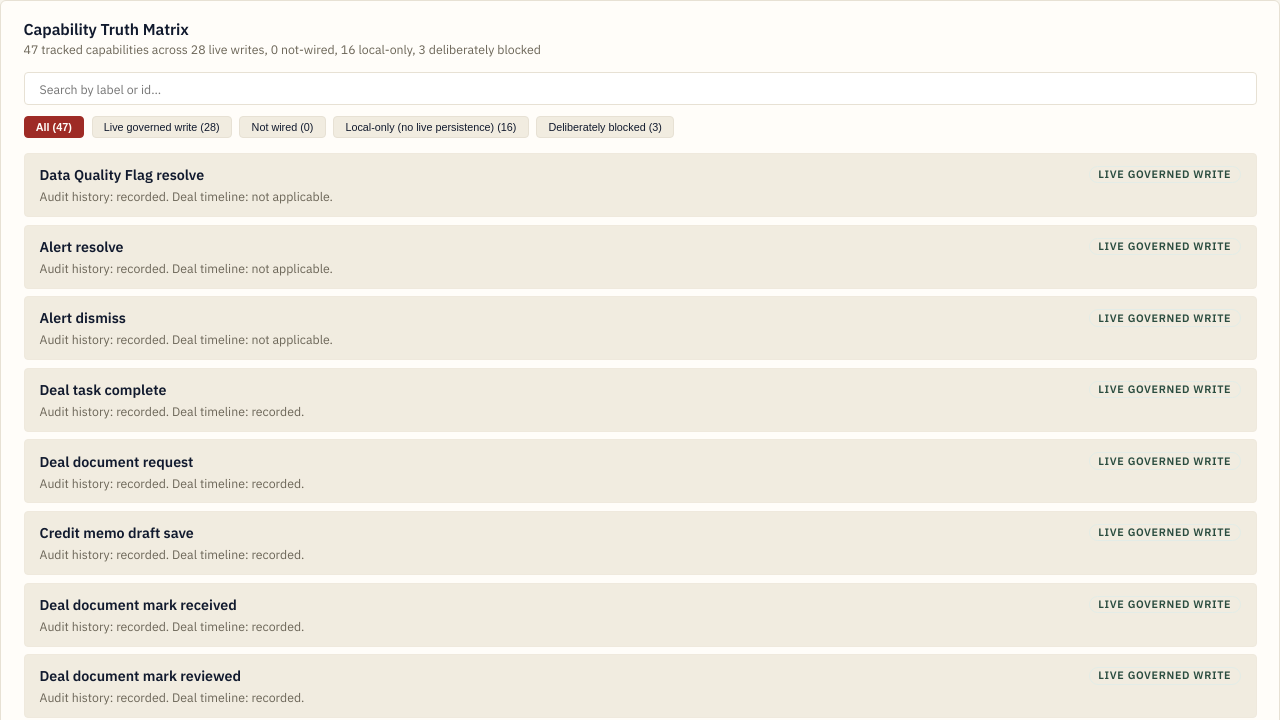
it: AdminCapabilityTruthMatrix › shows an honest empty state when nothing matches the search
Type "zzz-no-such-capability-zzz" into the field with placeholder "Search by label or id…".
click(640, 89); type("zzz-no-such-capability-zzz")  # box [24,72,1256,105]
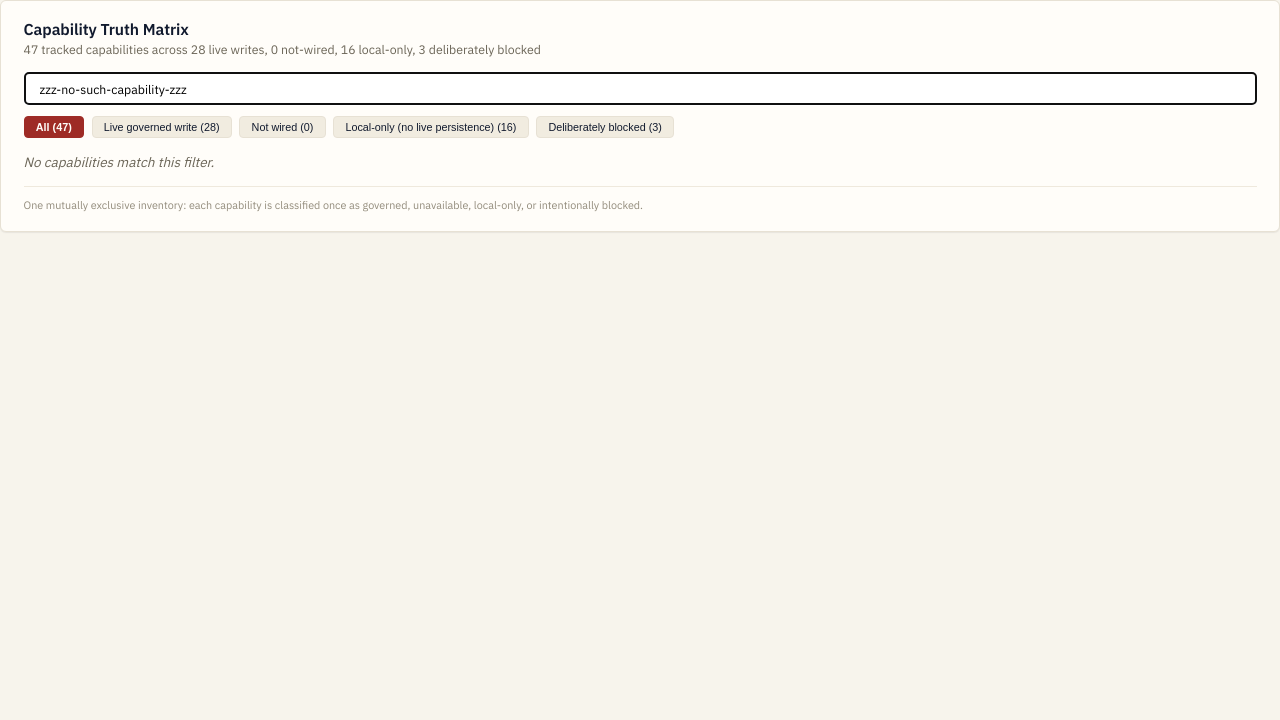
Expected: the text "No capabilities match this filter." is shown, [24,153,214,171]
